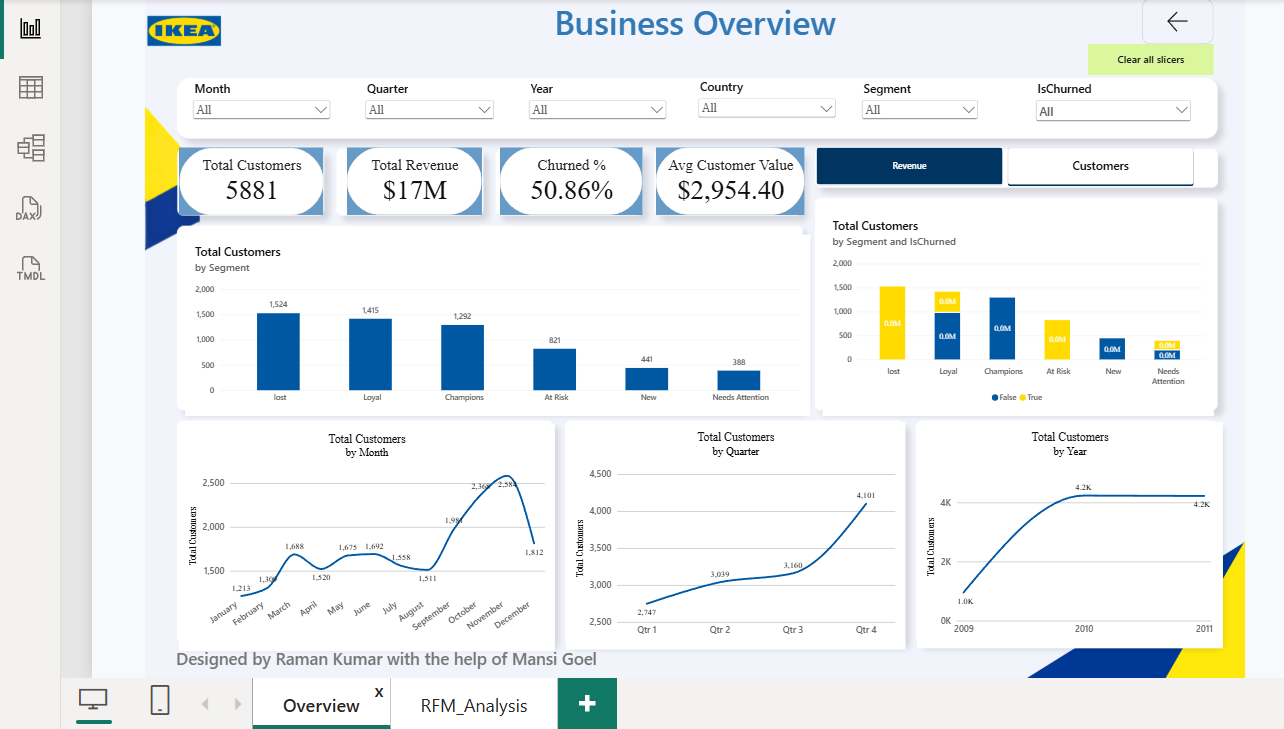

This screenshot's page, from the dashboard's own definition file:
{"tool":"powerbi","page":{"name":"Overview","canvas":[1920,1080],"ordinal":0},"visuals":[{"type":"cardVisual","fields":{"Data":["Sheet1.Total Customers"]},"box":[138.4,236.2,229,107.4],"z":0},{"type":"lineChart","fields":{"Category":["Sheet1.InvoiceDate.Variation.Date Hierarchy.Month"],"Y":["Sheet1.Total Customers"]},"box":[137.8,673.3,597.8,362.2],"z":0,"group":"g1"},{"type":"cardVisual","fields":{"Data":["Sheet1.Total Revenue"]},"box":[405.6,236.2,214.7,107.4],"z":1000},{"type":"lineChart","fields":{"Category":["Sheet1.InvoiceDate.Variation.Date Hierarchy.Quarter"],"Y":["Sheet1.Total Customers"]},"box":[753.4,671.1,540,362.2],"z":1000,"group":"g1"},{"type":"cardVisual","fields":{"Data":["Sheet1.Churned %"]},"box":[649,236.2,226.7,107.4],"z":2000},{"type":"lineChart","fields":{"Category":["Sheet1.InvoiceDate.Variation.Date Hierarchy.Year"],"Y":["Sheet1.Total Customers"]},"box":[1311.1,671.1,486.7,360],"z":2000,"group":"g1"},{"type":"cardVisual","fields":{"Data":["Sheet1.Avg Customer Value"]},"box":[897.1,236.2,236.2,107.4],"z":3000},{"type":"columnChart","fields":{"Category":["Sheet1.Segment"],"Y":["Sheet1.Total Customers"]},"box":[148.4,372.7,994.9,288.7],"z":3000,"group":"g1"},{"type":"slicer","fields":{"Values":["Sheet1.Segment"]},"box":[1218.8,128.6,195.3,91.5],"z":4000},{"type":"columnChart","fields":{"Category":["Sheet1.Segment"],"Series":["Sheet1.IsChurned"],"Y":["Sheet1.Total Customers"]},"box":[1162.4,332.1,622.7,329.3],"z":4000,"group":"g1"},{"type":"slicer","fields":{"Values":["Sheet1.Country"]},"box":[959.2,126.1,229,90.7],"z":5000},{"type":"bookmarkNavigator","box":[1152.3,240,601.3,57.3],"z":5000,"group":"g1"},{"type":"slicer","fields":{"Values":["Sheet1.InvoiceDate.Variation.Date Hierarchy.Year"]},"box":[689.7,128.6,229,90.7],"z":6000},{"type":"slicer","fields":{"Values":["Sheet1.InvoiceDate.Variation.Date Hierarchy.Quarter"]},"box":[430.2,128.6,214.7,90.7],"z":7000},{"type":"slicer","fields":{"Values":["Sheet1.InvoiceDate.Variation.Date Hierarchy.Month"]},"box":[155.1,128.8,229,90.7],"z":8000},{"type":"pieChart","fields":{"Category":["Sheet1.Segment"],"Series":["Sheet1.IsChurned"],"Y":["Sheet1.Total Revenue"]},"box":[1152.4,322.1,622.7,329.3],"z":9000},{"type":"group","id":"g1","title":"Customers","box":[137.8,240,1660,795.6],"z":10000},{"type":"bookmarkNavigator","box":[1152,237.3,600.7,59.3],"z":12000},{"type":"slicer","fields":{"Values":["Sheet1.IsChurned"]},"box":[1495.6,128.6,257.1,93.9],"z":13000},{"type":"textbox","box":[39.1,0,1841.7,101.4],"z":14000},{"type":"image","box":[39.6,0,212.6,101.4],"z":15000},{"type":"textbox","box":[126.1,1030.9,719.4,49.4],"z":16000},{"type":"actionButton","box":[1671.2,0,113.7,71.7],"z":17000},{"type":"actionButton","box":[1584.6,71.7,200.2,49.4],"z":18000}]}

Visuals, with their boxes on the page's 1920x1080 design canvas (x1, y1, x2, y2). These are canvas units, not pixel positions in the 1284x729 screenshot, which may show the page scaled, cropped or inside an application window:
cardVisual - Sheet1.Total Customers: rect(138, 236, 367, 344)
lineChart - Sheet1.InvoiceDate.Variation.Date Hierarchy.Month x Sheet1.Total Customers: rect(138, 673, 736, 1036)
cardVisual - Sheet1.Total Revenue: rect(406, 236, 620, 344)
lineChart - Sheet1.InvoiceDate.Variation.Date Hierarchy.Quarter x Sheet1.Total Customers: rect(753, 671, 1293, 1033)
cardVisual - Sheet1.Churned %: rect(649, 236, 876, 344)
lineChart - Sheet1.InvoiceDate.Variation.Date Hierarchy.Year x Sheet1.Total Customers: rect(1311, 671, 1798, 1031)
cardVisual - Sheet1.Avg Customer Value: rect(897, 236, 1133, 344)
columnChart - Sheet1.Segment x Sheet1.Total Customers: rect(148, 373, 1143, 661)
slicer - Sheet1.Segment: rect(1219, 129, 1414, 220)
columnChart - Sheet1.Segment x Sheet1.IsChurned: rect(1162, 332, 1785, 661)
slicer - Sheet1.Country: rect(959, 126, 1188, 217)
bookmarkNavigator: rect(1152, 240, 1754, 297)
slicer - Sheet1.InvoiceDate.Variation.Date Hierarchy.Year: rect(690, 129, 919, 219)
slicer - Sheet1.InvoiceDate.Variation.Date Hierarchy.Quarter: rect(430, 129, 645, 219)
slicer - Sheet1.InvoiceDate.Variation.Date Hierarchy.Month: rect(155, 129, 384, 220)
pieChart - Sheet1.Segment x Sheet1.IsChurned: rect(1152, 322, 1775, 651)
"Customers" group: rect(138, 240, 1798, 1036)
bookmarkNavigator: rect(1152, 237, 1753, 297)
slicer - Sheet1.IsChurned: rect(1496, 129, 1753, 222)
textbox: rect(39, 0, 1881, 101)
image: rect(40, 0, 252, 101)
textbox: rect(126, 1031, 846, 1080)
actionButton: rect(1671, 0, 1785, 72)
actionButton: rect(1585, 72, 1785, 121)
